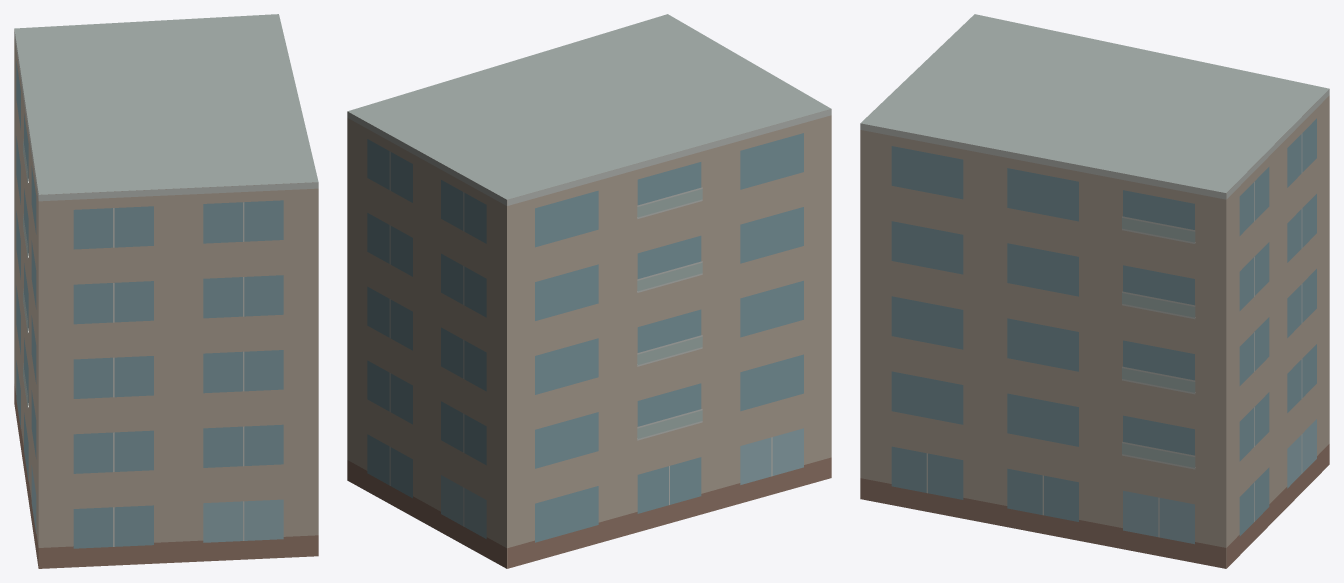
File: survey-upis-32750763.glb
3 renders of one model, left to right at view 1: azimuth 30°, elevation 25°; view 2: azimuth 150°, elevation 25°; view 3: azimuth 270°, elevation 25°, orthographic.
Visible parts, largest first — view 1: survey-upis-32750763.tmp; view 2: survey-upis-32750763.tmp; view 3: survey-upis-32750763.tmp.
Part boxes in pixels (x1=…): survey-upis-32750763.tmp: x1=14, y1=14, x2=318, y2=568; survey-upis-32750763.tmp: x1=347, y1=14, x2=831, y2=568; survey-upis-32750763.tmp: x1=860, y1=14, x2=1329, y2=568.
Size of the model in its own units: 14.43 by 14.1 by 15.97.
